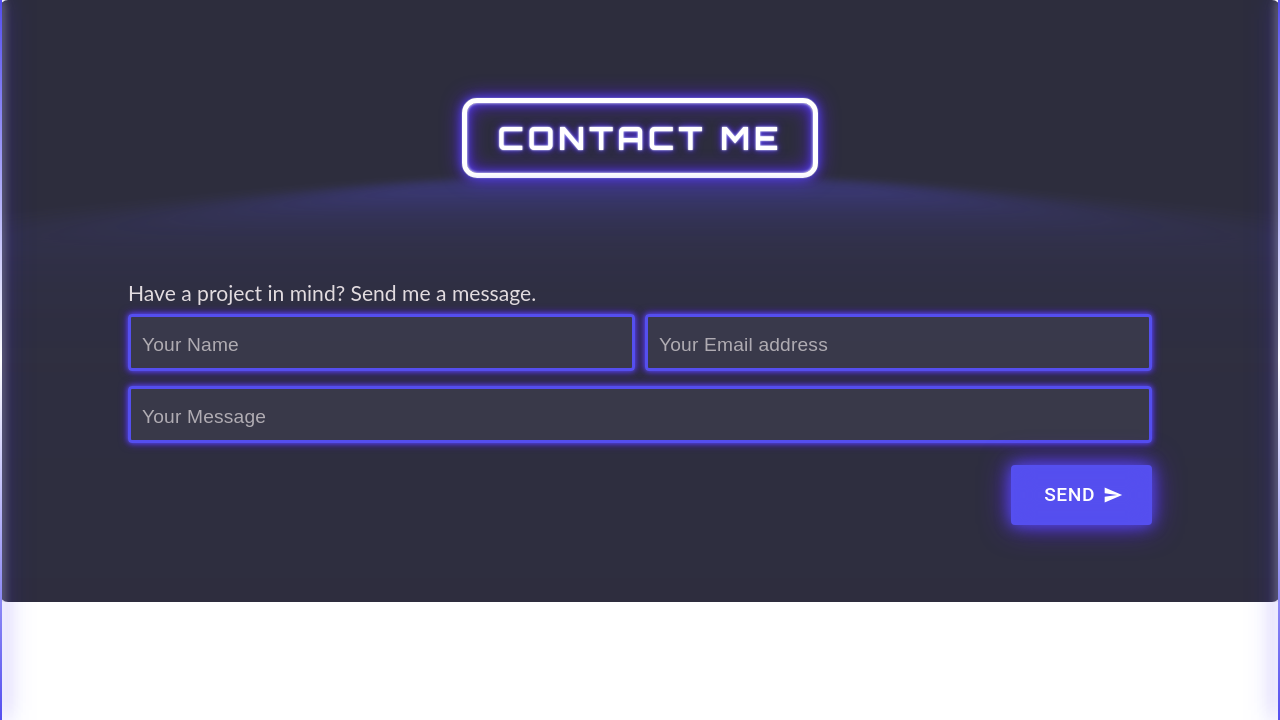
Test: valid contact submission sends trimmed values and clears the form
Type " Example Person " into the field labelled "Your Name" at coordinates (382, 343), box [128, 315, 635, 371]
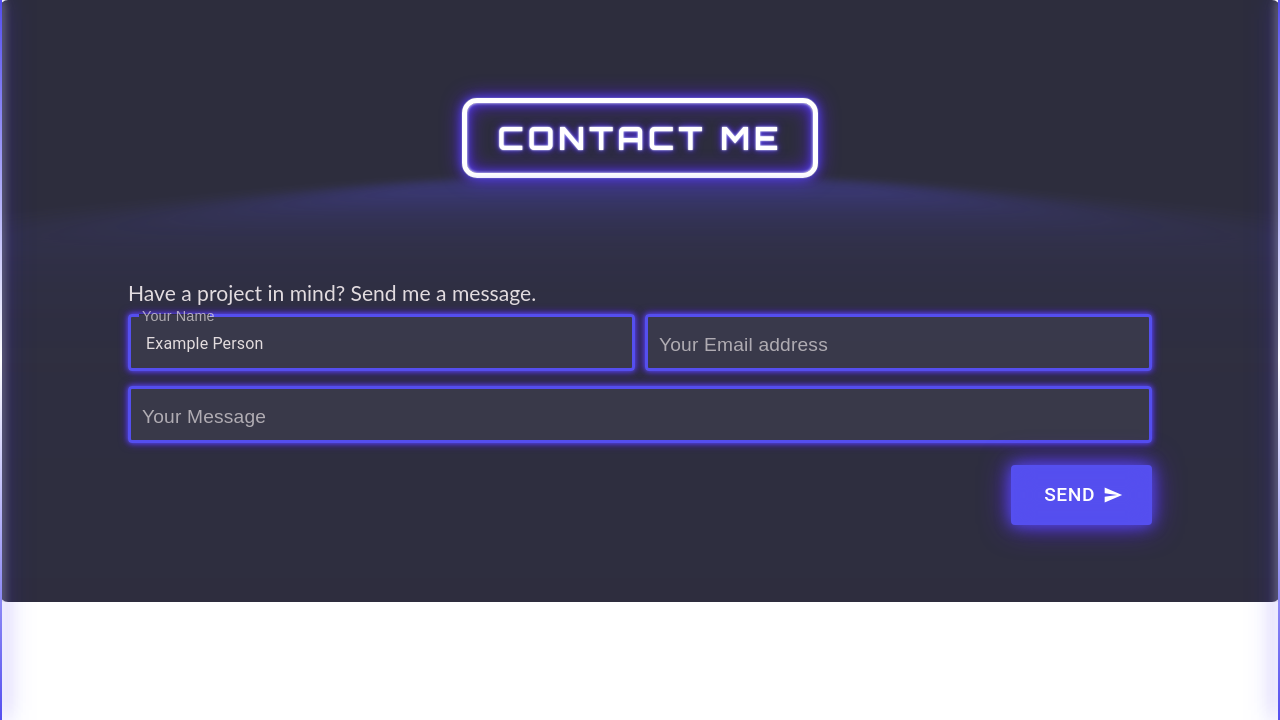
Type "example@example.com" into the field labelled "Your Email address" at coordinates (898, 343), box [645, 315, 1152, 371]
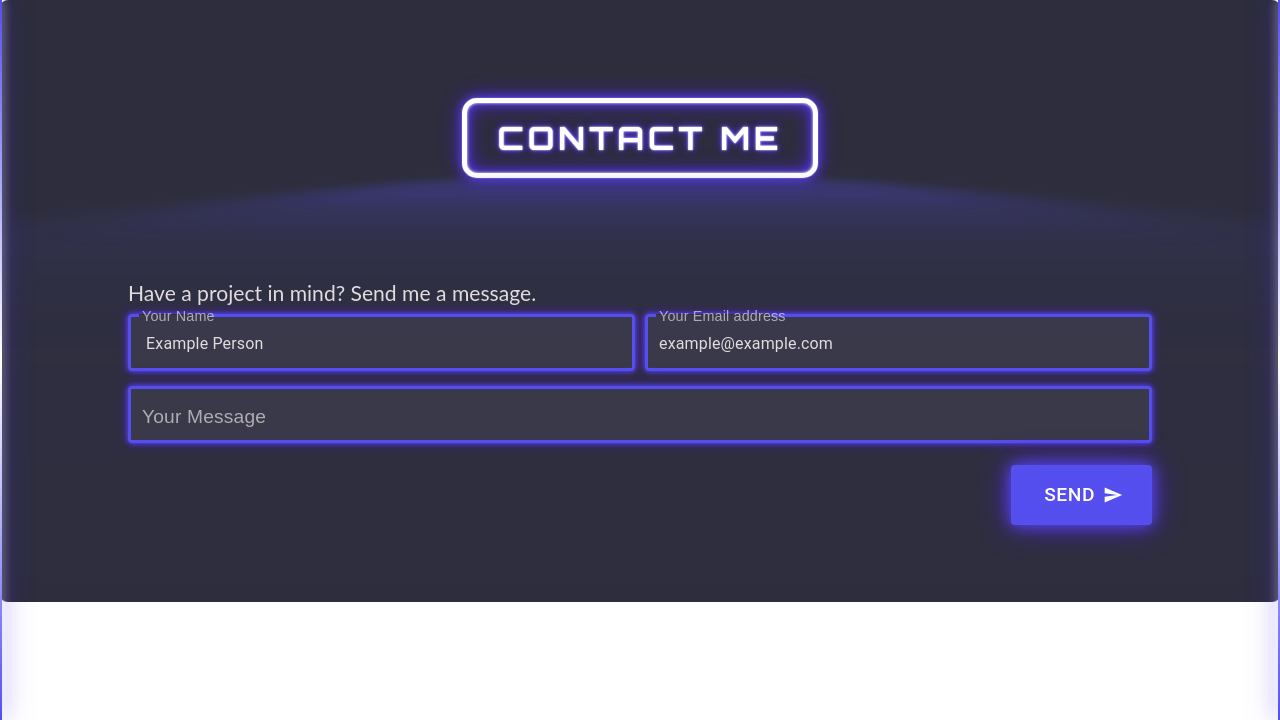
Type " Synthetic test message " into the field labelled "Your Message" at coordinates (640, 415), box [128, 387, 1152, 443]
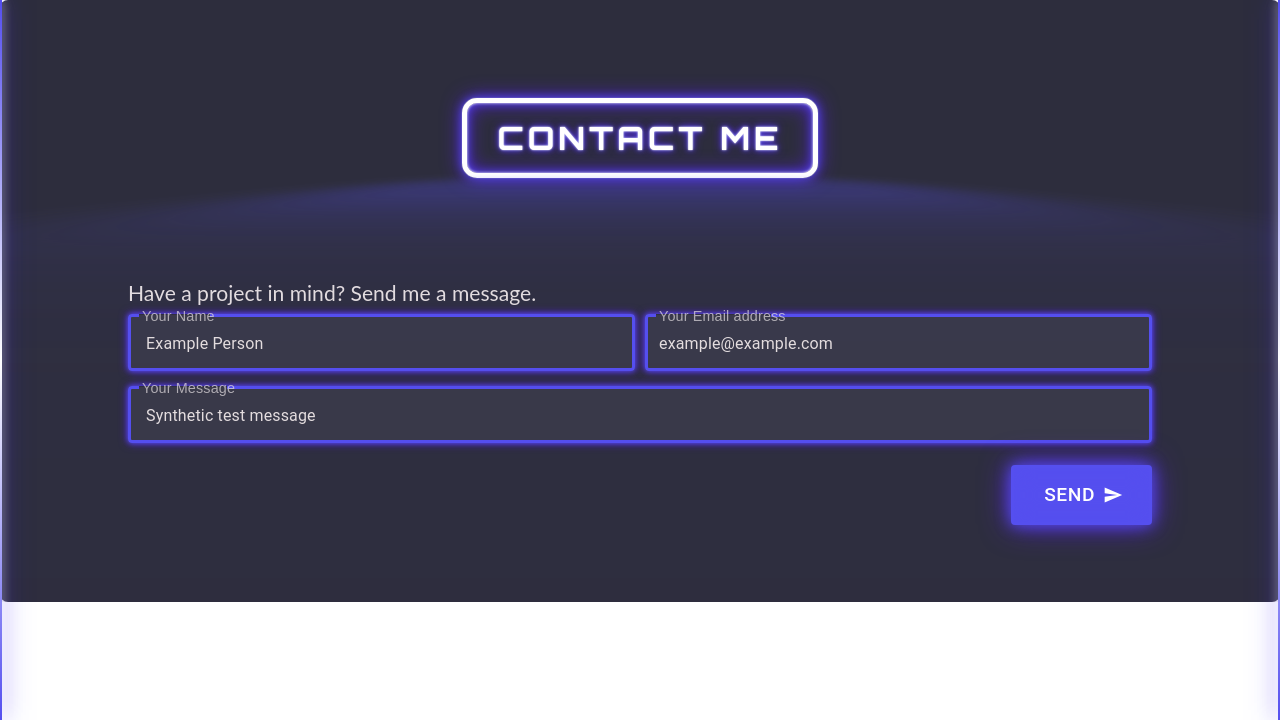
Click the button "SEND" at coordinates (1082, 495), box [1011, 465, 1152, 525]
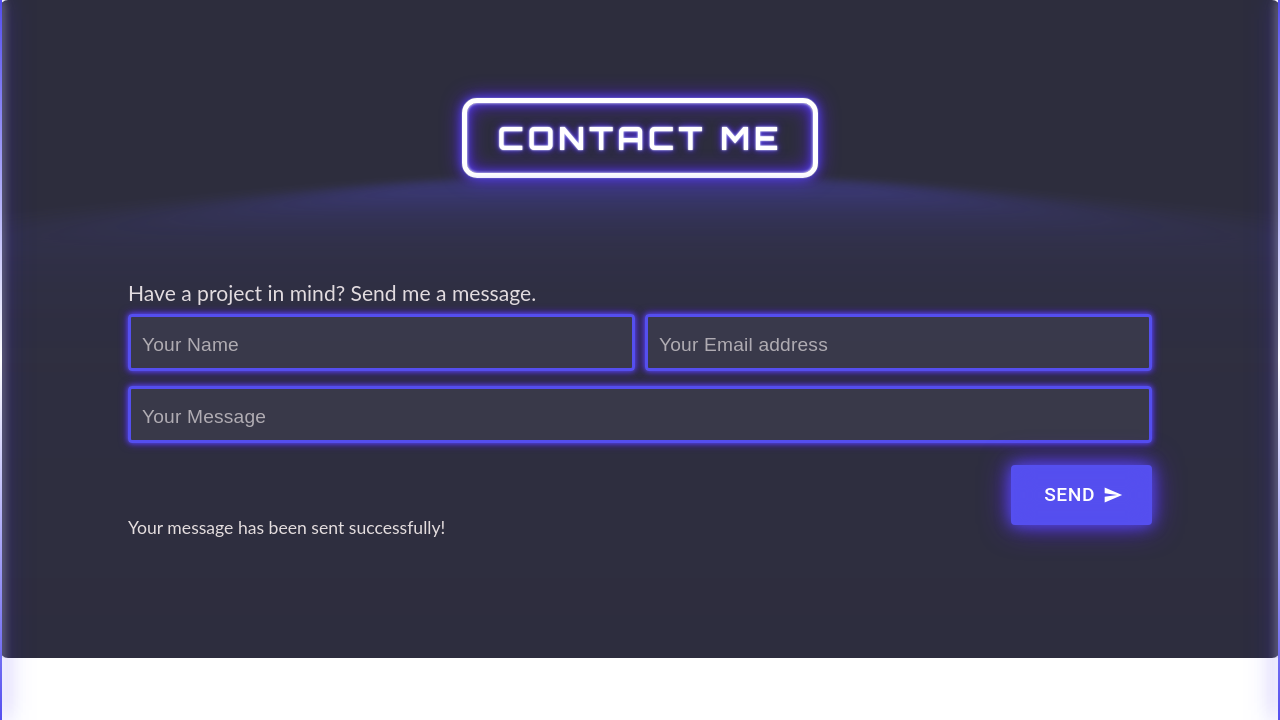
Expected: the text "Your message has been sent successfully!" is shown, [128, 517, 445, 538]
Expected: the field labelled "Your Name" is empty, [128, 315, 635, 371]
